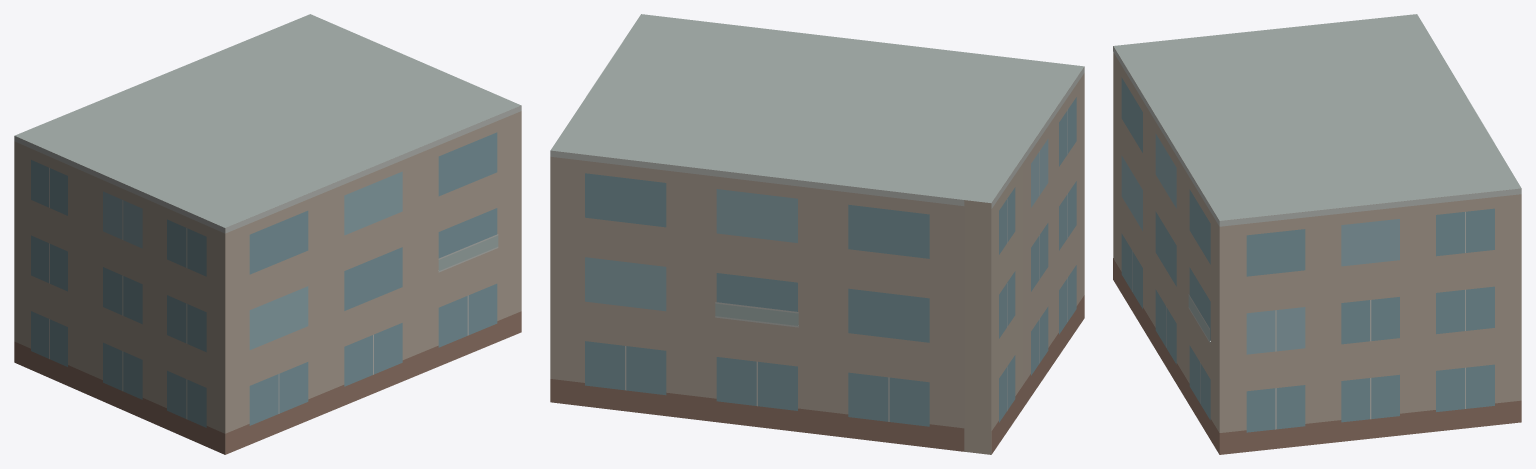
File: survey-upis-32582350.glb
The picture shows the model from 3 angles, left to right: view 1: azimuth 30°, elevation 25°; view 2: azimuth 150°, elevation 25°; view 3: azimuth 270°, elevation 25°; orthographic projection. The views are drawn at different scales.
Visible parts, largest first — view 1: survey-upis-32582350.tmp; view 2: survey-upis-32582350.tmp; view 3: survey-upis-32582350.tmp.
Part boxes in pixels (x1=…): survey-upis-32582350.tmp: x1=14, y1=14, x2=521, y2=454; survey-upis-32582350.tmp: x1=550, y1=14, x2=1084, y2=454; survey-upis-32582350.tmp: x1=1113, y1=14, x2=1521, y2=454.
Bounding box in the file's own units: 18.8 × 9.9 × 15.68.
